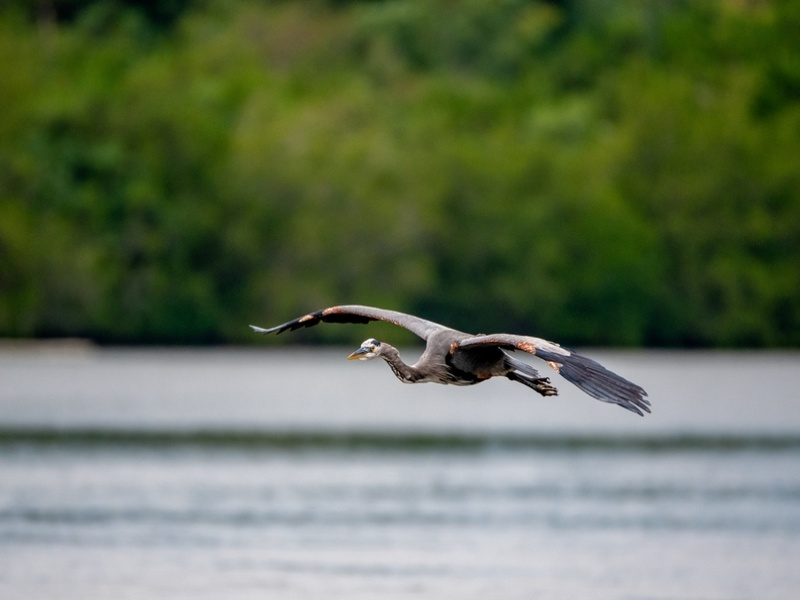heron: (244, 306, 655, 417)
